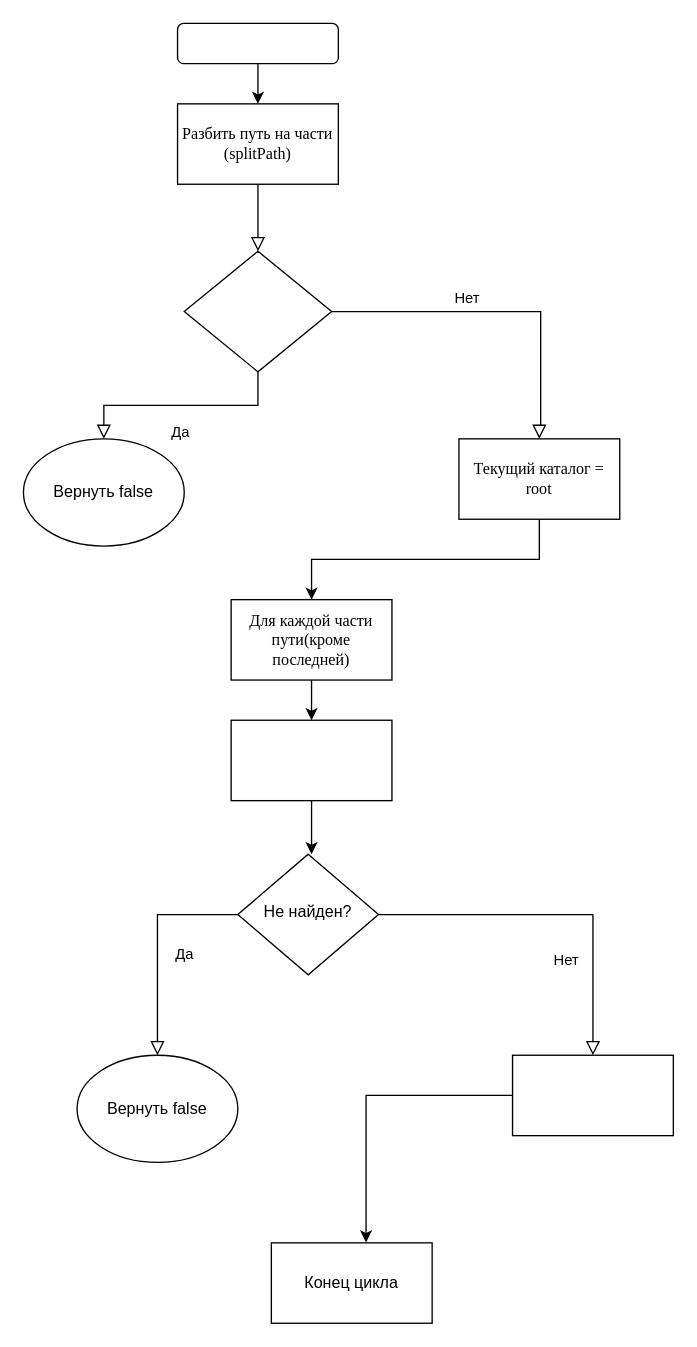
Image size: 697x1347. Some labels were removed from this diagram. Each missing label, with the centre of its shape:
"Найти child в текущ. каталоге" goes at point 311,760.
"Начало" goes at point 257,43.
"Обновить текущий каталог" goes at point 592,1095.
"Пустые части?" goes at point 257,311.
